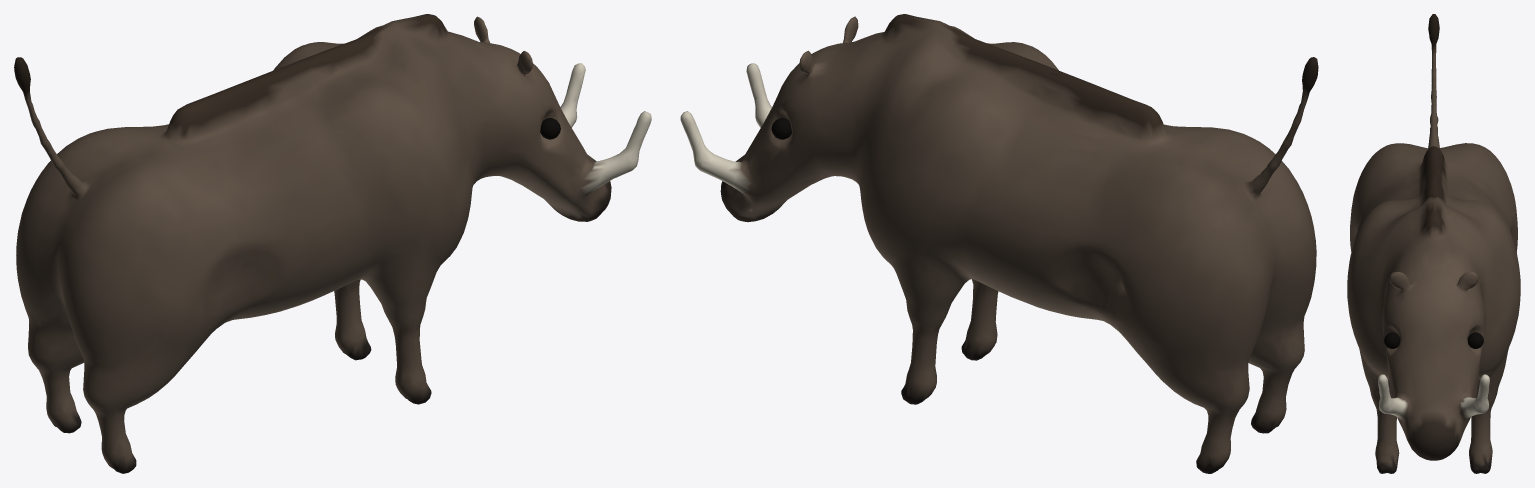
File: warthog.glb
3 views of the same model, side by side, from view 1: azimuth 30°, elevation 25°; view 2: azimuth 150°, elevation 25°; view 3: azimuth 270°, elevation 25° (orthographic). The views are drawn at different scales.
Visible parts, largest first — view 1: warthog; view 2: warthog; view 3: warthog.
Part boxes in pixels (<box>): warthog: <box>14,14,651,473</box>; warthog: <box>680,14,1318,473</box>; warthog: <box>1347,14,1520,473</box>.
Size of the model in its own units: 1.39 by 0.9029 by 0.4449.
